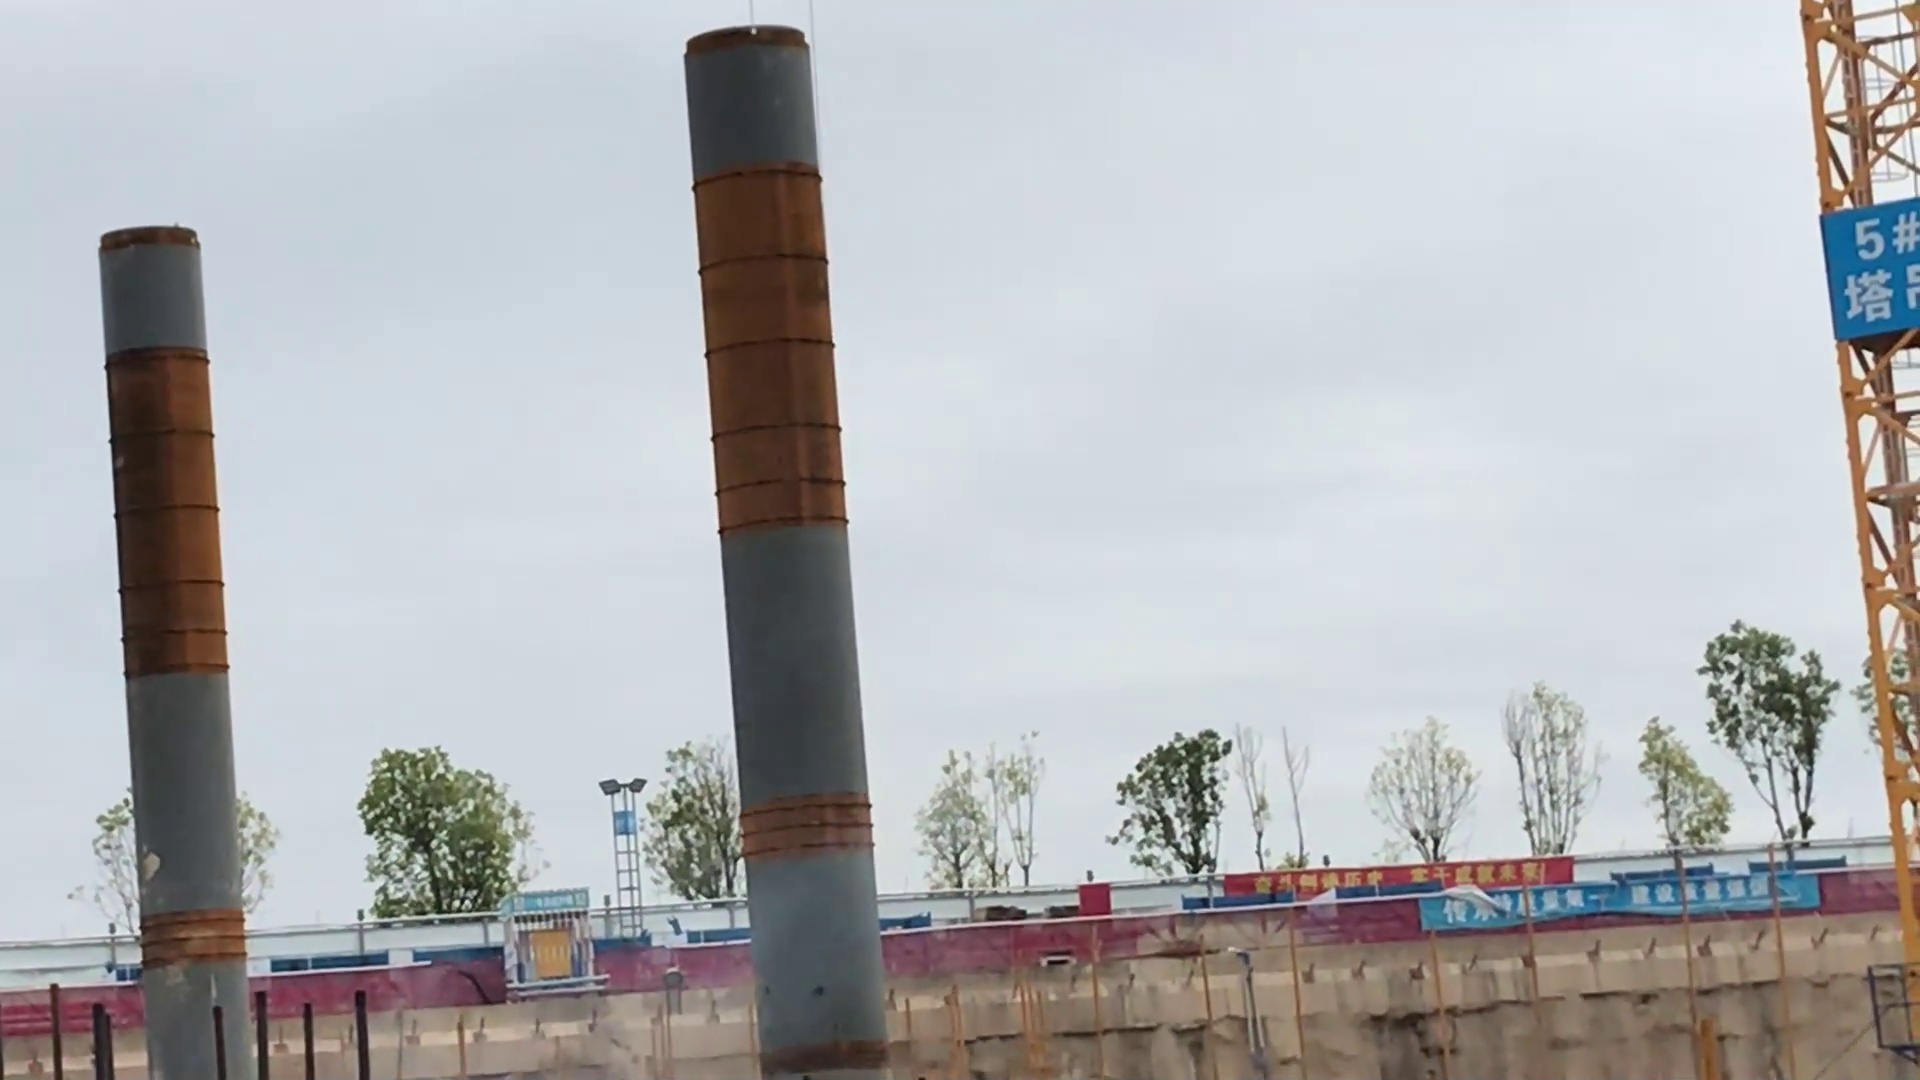ebox: (517, 928, 574, 978)
slogan: (1420, 872, 1820, 928), (1225, 858, 1575, 906)
